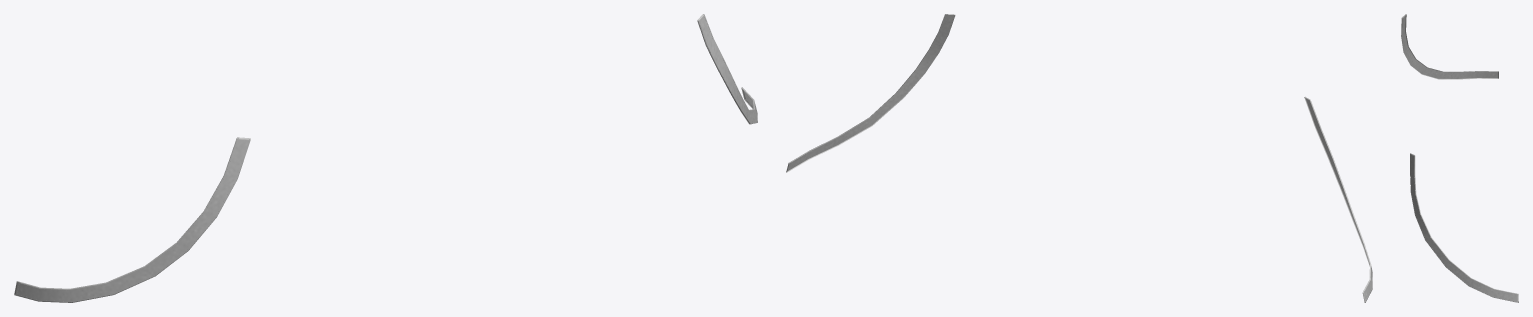
Rendered from Pocket.glb.
3 views of the same model, side by side, from view 1: azimuth 30°, elevation 25°; view 2: azimuth 150°, elevation 25°; view 3: azimuth 270°, elevation 25° (orthographic). The views are drawn at different scales.
Parts seen in each view (by area): view 1: Pocket1, Rope1; view 2: Pocket1; view 3: Pocket1, Rope1.
Boxes of the visible parts, <box> form: Pocket1: <box>14,14,757,302</box>; Rope1: <box>14,15,757,301</box>; Pocket1: <box>786,14,1372,302</box>; Pocket1: <box>1401,14,1518,302</box>; Rope1: <box>1410,153,1518,302</box>.
Size of the model in its own units: 0.6786 by 0.1556 by 0.1498.
Materials: 2 (2 with a texture image).
